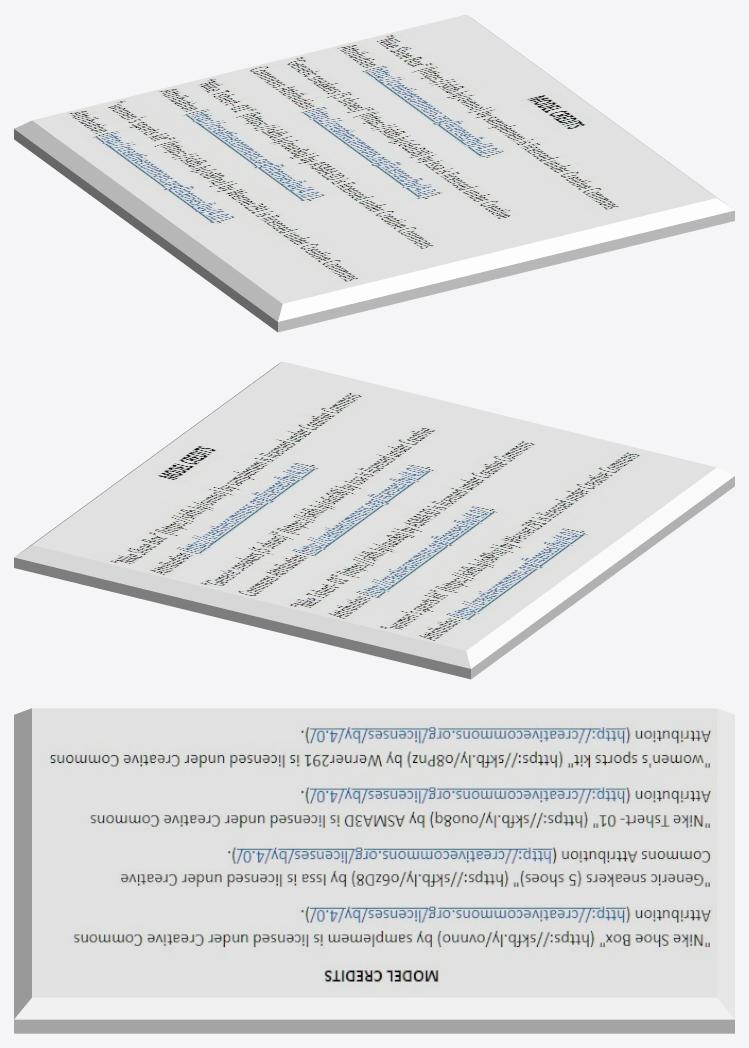
The model's file is CreditsPlaqueV2C3.fbx.
The picture shows the model from 3 angles, top to bottom: view 1: azimuth 30°, elevation 25°; view 2: azimuth 150°, elevation 25°; view 3: azimuth 270°, elevation 25°; orthographic projection. The views are drawn at different scales.
Visible parts, largest first — view 1: Plaque; view 2: Plaque; view 3: Plaque.
Boxes of the visible parts, x1=… form: Plaque: x1=14, y1=14, x2=734, y2=332; Plaque: x1=14, y1=361, x2=734, y2=679; Plaque: x1=14, y1=708, x2=734, y2=1033.
Size of the model in its own units: 400 by 17.5 by 400.
